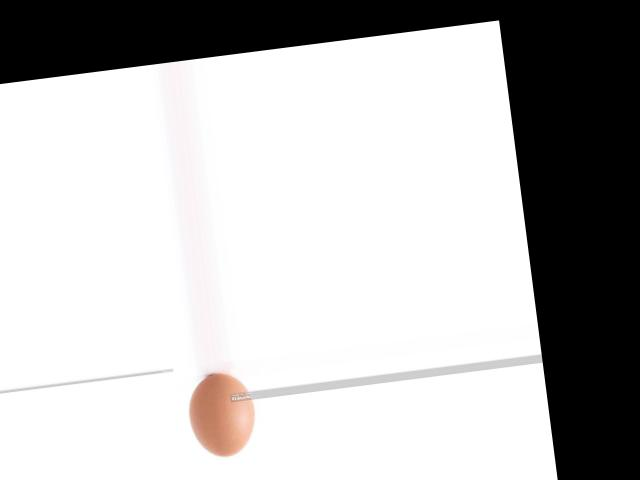egg: (185, 370, 260, 460)
